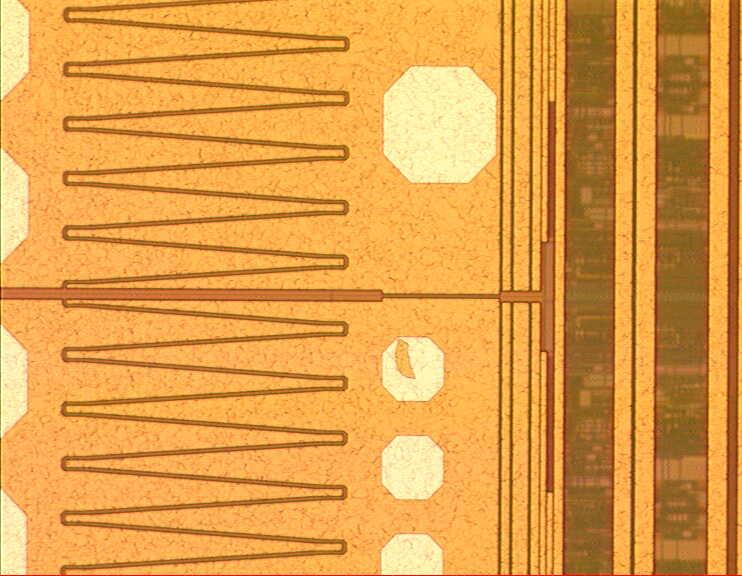BLOCK ETCH: (384, 338, 432, 386)
